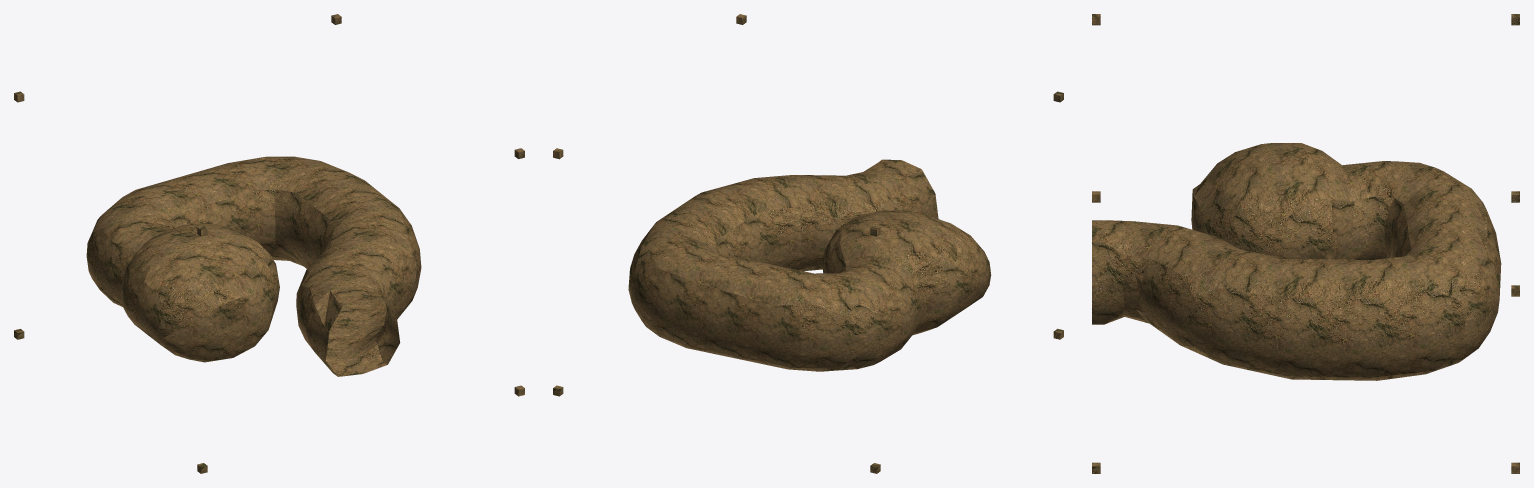
File: lba_1b.glb
3 views of the same model, side by side, from view 1: azimuth 30°, elevation 25°; view 2: azimuth 150°, elevation 25°; view 3: azimuth 270°, elevation 25° (orthographic). The views are drawn at different scales.
Parts seen in each view (by area): view 1: lba_1b; view 2: lba_1b; view 3: lba_1b.
Boxes of the visible parts, x1=… form: lba_1b: x1=14, y1=14, x2=524, y2=473; lba_1b: x1=553, y1=14, x2=1063, y2=473; lba_1b: x1=1092, y1=14, x2=1519, y2=473.
Bounding box in the file's own units: 15 × 10.8 × 15.
Materials: 1 (1 with a texture image).
